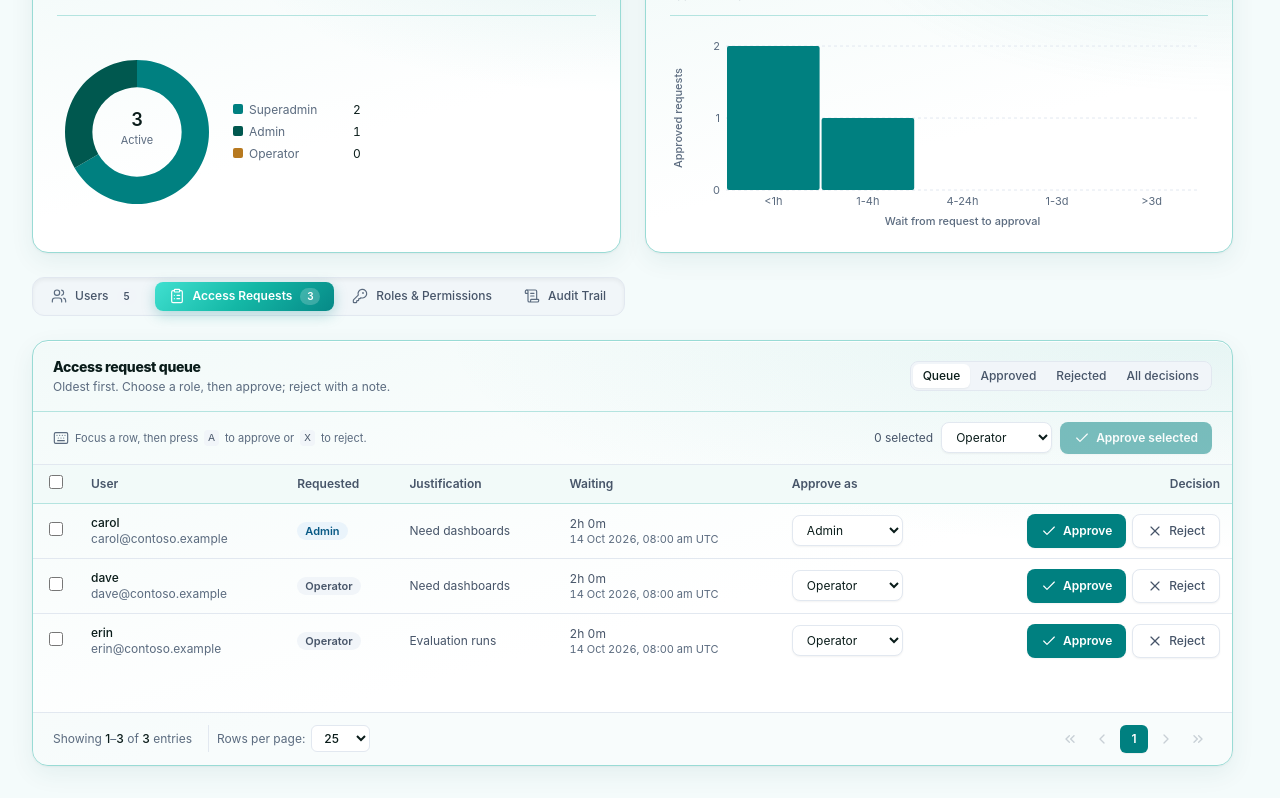
Scenario: Access Requests tab › bulk approves the selected rows with one role
This screenshot has width=1280, height=798.
(page scrolled)
expect the row with test id "request-row-r-1" is shown: met, box [33,503,1232,558]
expect the button "Approve selected" is disabled: met, box [1060,422,1212,454]
Step 1. Click the checkbox named "Select carol@contoso.example" → (56, 529), box [49,522,63,536]
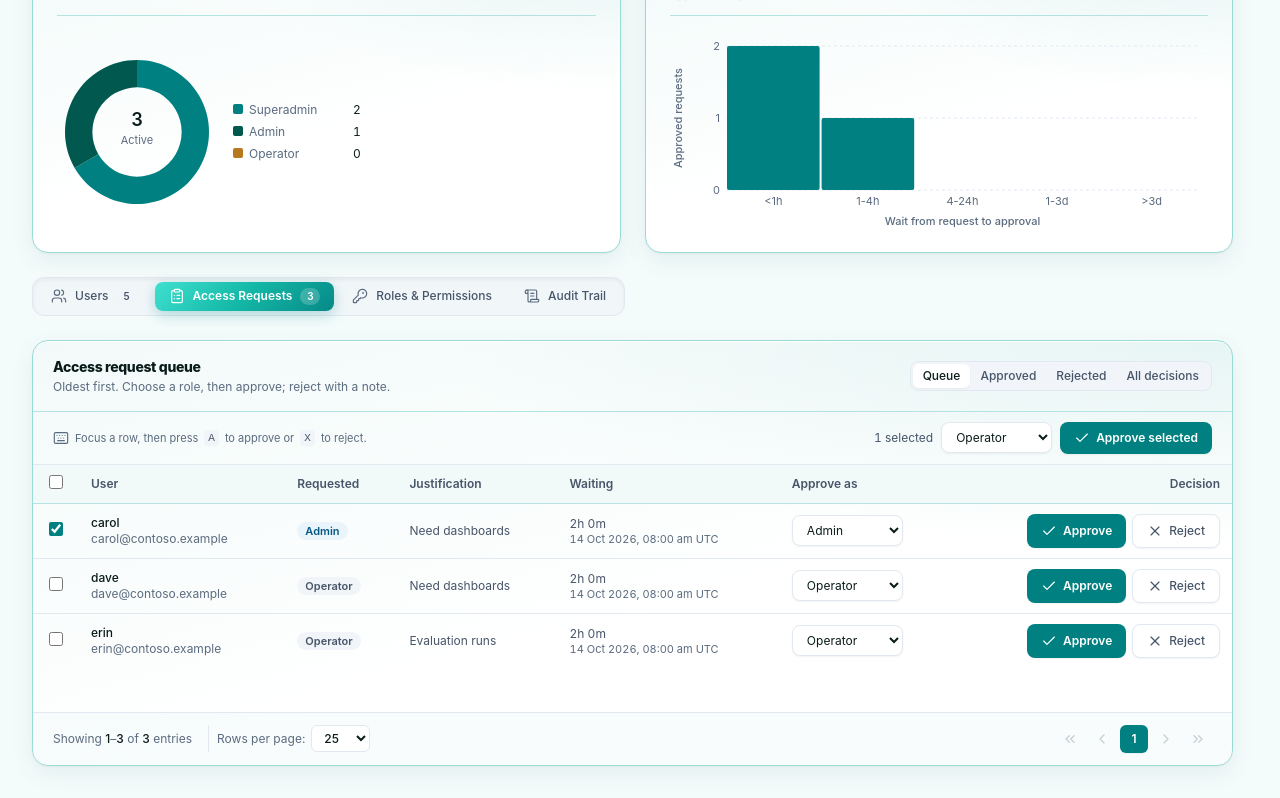
Step 2. Click the checkbox named "Select erin@contoso.example" → (56, 639), box [49,632,63,646]
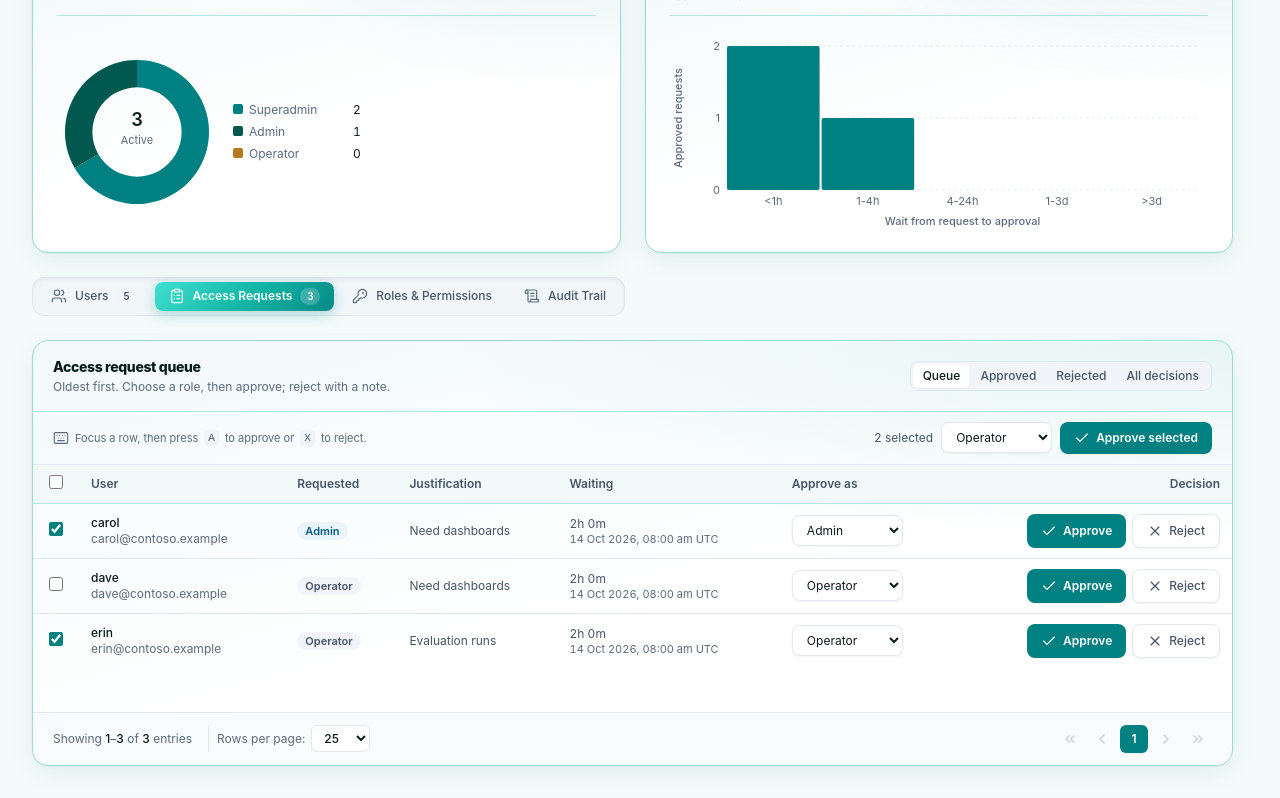
expect the text "2 selected" is shown: met, box [874,430,933,446]
Step 3. Select "Admin" in the dropdown named "Role for bulk approval" → (997, 438), box [941,422,1052,453]
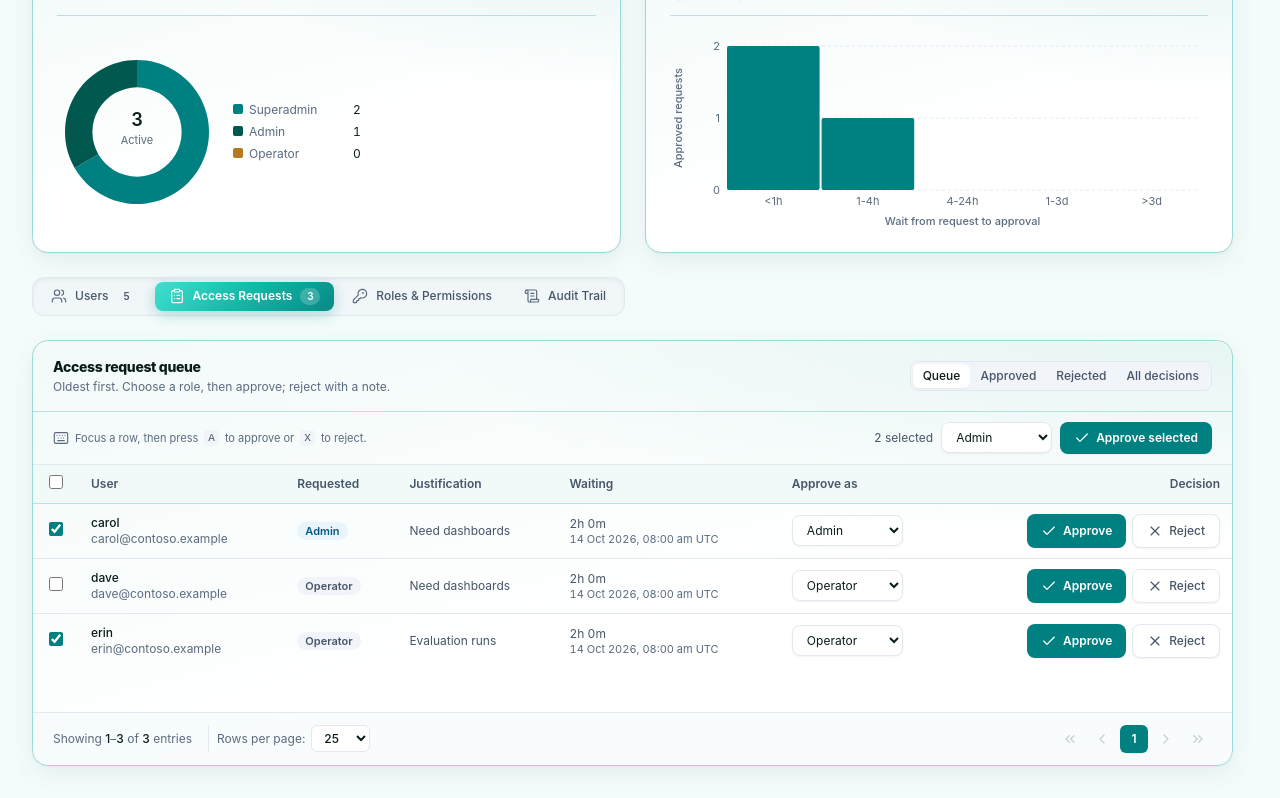
Step 4. Click the button "Approve selected" → (1136, 438), box [1060,422,1212,454]
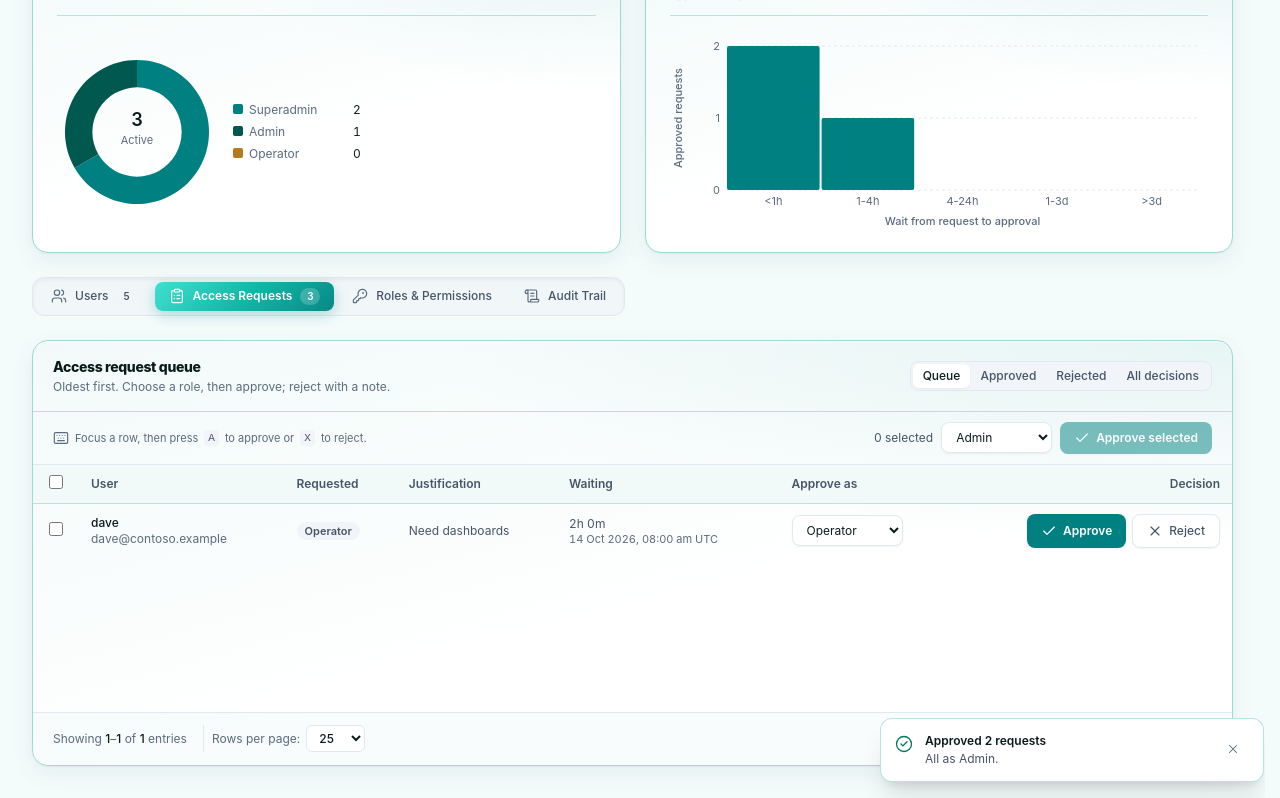
expect the text "Approved 2 requests" is shown: met, box [925,733,1046,748]
expect the row with test id "request-row-r-1" is gone: met
expect the row with test id "request-row-r-3" is gone: met
